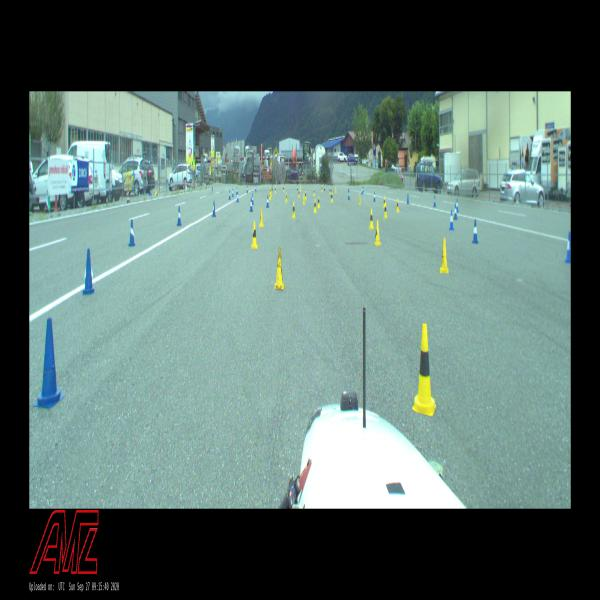blue_cone: (33, 318, 64, 408), (82, 249, 95, 294), (128, 220, 136, 246), (472, 220, 479, 243), (566, 232, 570, 262), (176, 207, 182, 226), (449, 210, 454, 230), (454, 203, 458, 220), (212, 201, 216, 216), (456, 198, 459, 213), (250, 199, 253, 211), (266, 195, 269, 207), (236, 192, 239, 202), (373, 192, 376, 202), (228, 190, 231, 199), (434, 195, 436, 207), (252, 194, 254, 204), (348, 190, 350, 199), (232, 188, 234, 197), (246, 185, 248, 193), (236, 188, 238, 195), (361, 188, 363, 195), (255, 185, 257, 191)
yellow_cone: (412, 325, 435, 415), (274, 248, 285, 290), (439, 238, 449, 274), (251, 221, 258, 249), (374, 219, 381, 245), (258, 208, 264, 227), (369, 210, 374, 230), (292, 201, 296, 218), (313, 198, 317, 213), (384, 204, 387, 219), (396, 199, 399, 213), (317, 196, 320, 208), (383, 196, 386, 207), (285, 192, 288, 202), (359, 193, 361, 205), (303, 193, 305, 205), (331, 192, 333, 202), (304, 190, 306, 200), (269, 190, 271, 200), (270, 188, 272, 197), (321, 184, 323, 192), (298, 189, 300, 197), (313, 188, 315, 195), (335, 186, 337, 193), (330, 186, 331, 194), (283, 184, 284, 192), (275, 186, 276, 194)
